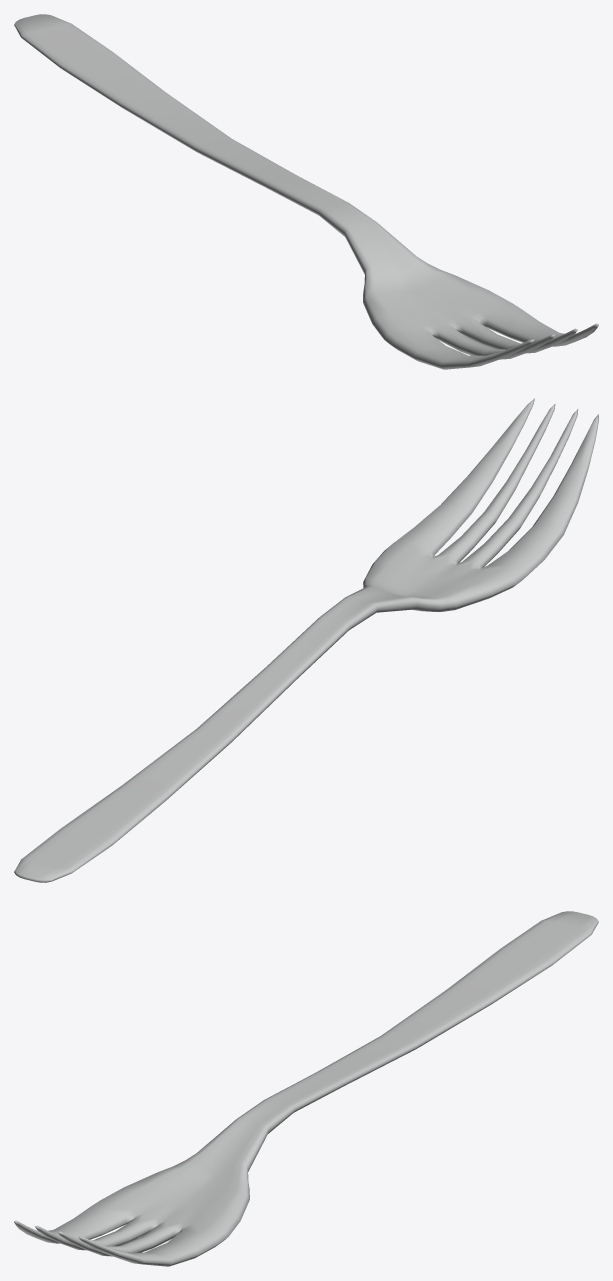
File: Prop_Kitchen_Fork.fbx
The picture shows the model from 3 angles, top to bottom: view 1: azimuth 30°, elevation 25°; view 2: azimuth 150°, elevation 25°; view 3: azimuth 330°, elevation 25°; orthographic projection.
Visible parts, largest first — view 1: Prop_Kitchen_Fork; view 2: Prop_Kitchen_Fork; view 3: Prop_Kitchen_Fork.
Part boxes in pixels (x1,y1,x2,y2): Prop_Kitchen_Fork: (14,14,598,369); Prop_Kitchen_Fork: (14,398,598,882); Prop_Kitchen_Fork: (14,911,598,1266).
Bounding box in the file's own units: 2.01 × 1.21 × 13.94.
